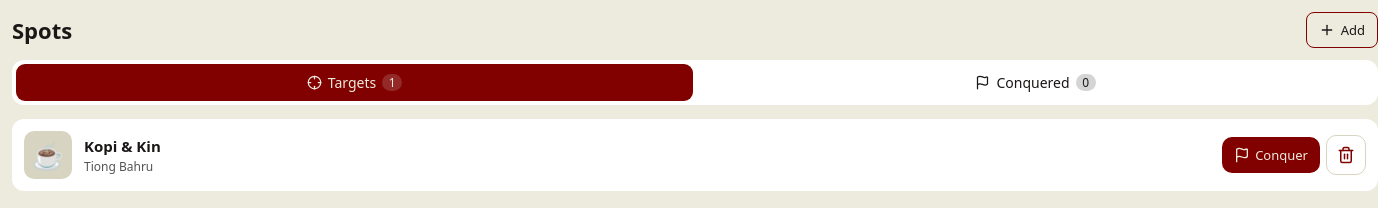
Test: Conquer moves a Target into the Conquered tab
Click the button with aria-label "Conquer Kopi & Kin" at point(1271, 155), box [1222, 137, 1320, 173]
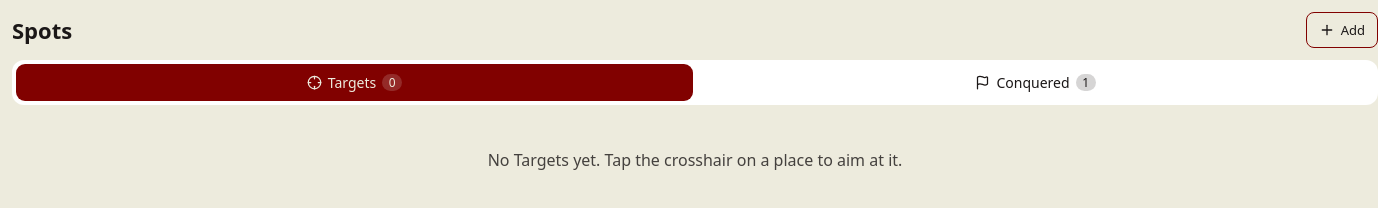
Expected: the tab "Targets 0" is shown, [16, 64, 693, 101]
Expected: the tab "Conquered 1" is shown, [697, 64, 1374, 101]
